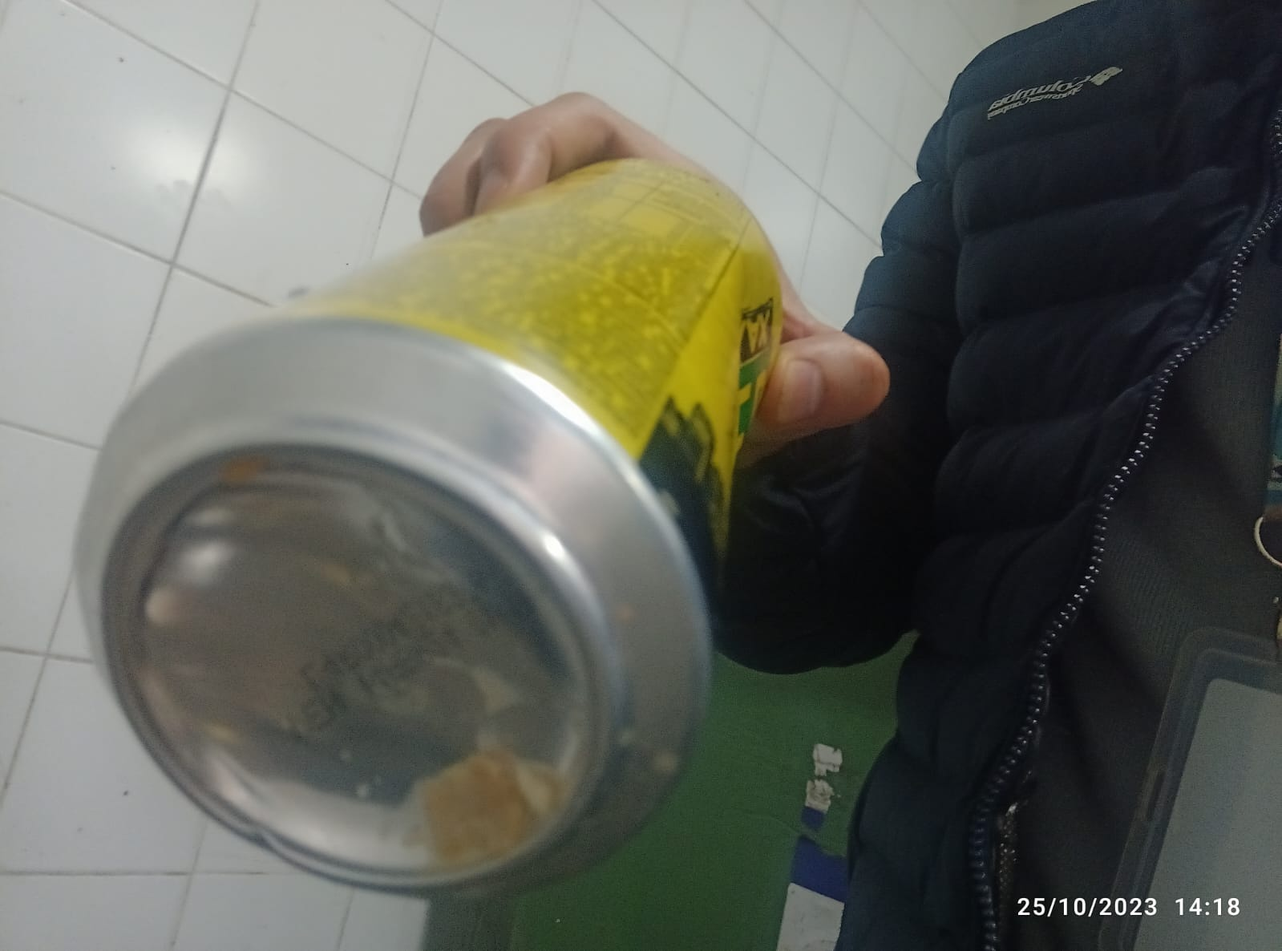Metal: (80, 151, 789, 899)
